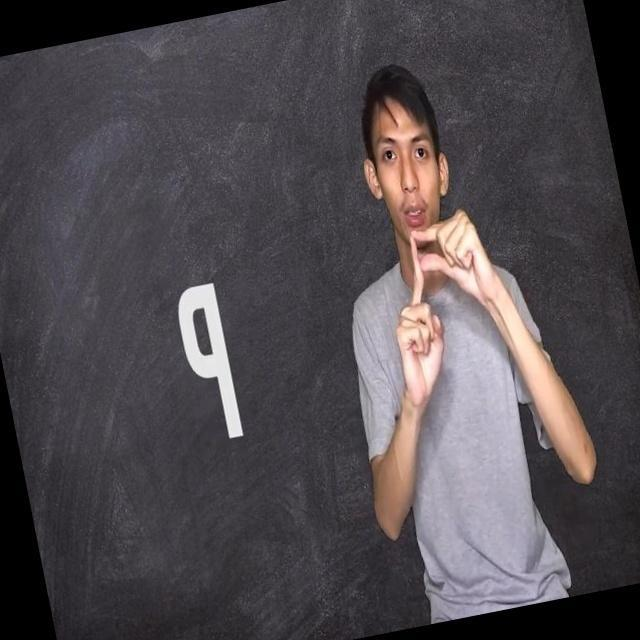P: (400, 212, 478, 357)
